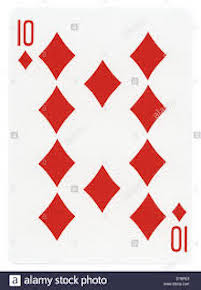TenOfDiamonds: (8, 10, 195, 261)
